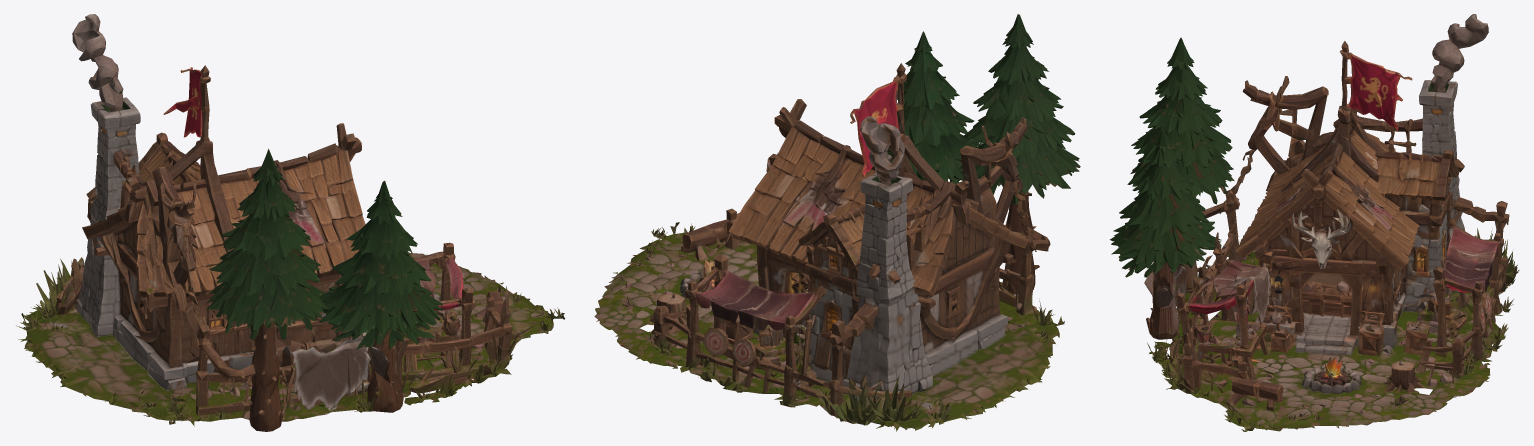
Rendered from hunters_hut.glb.
The picture shows the model from 3 angles, left to right: view 1: azimuth 30°, elevation 25°; view 2: azimuth 150°, elevation 25°; view 3: azimuth 270°, elevation 25°; orthographic projection. The views are drawn at different scales.
Visible parts, largest first — view 1: HuntersHut; view 2: HuntersHut; view 3: HuntersHut.
Part boxes in pixels (x1,y1,x2,y2): HuntersHut: (16, 14, 564, 431); HuntersHut: (594, 14, 1080, 431); HuntersHut: (1110, 14, 1519, 431).
Bounding box in the file's own units: 3.14 × 1.98 × 2.76.
1 material, 1 textured.
